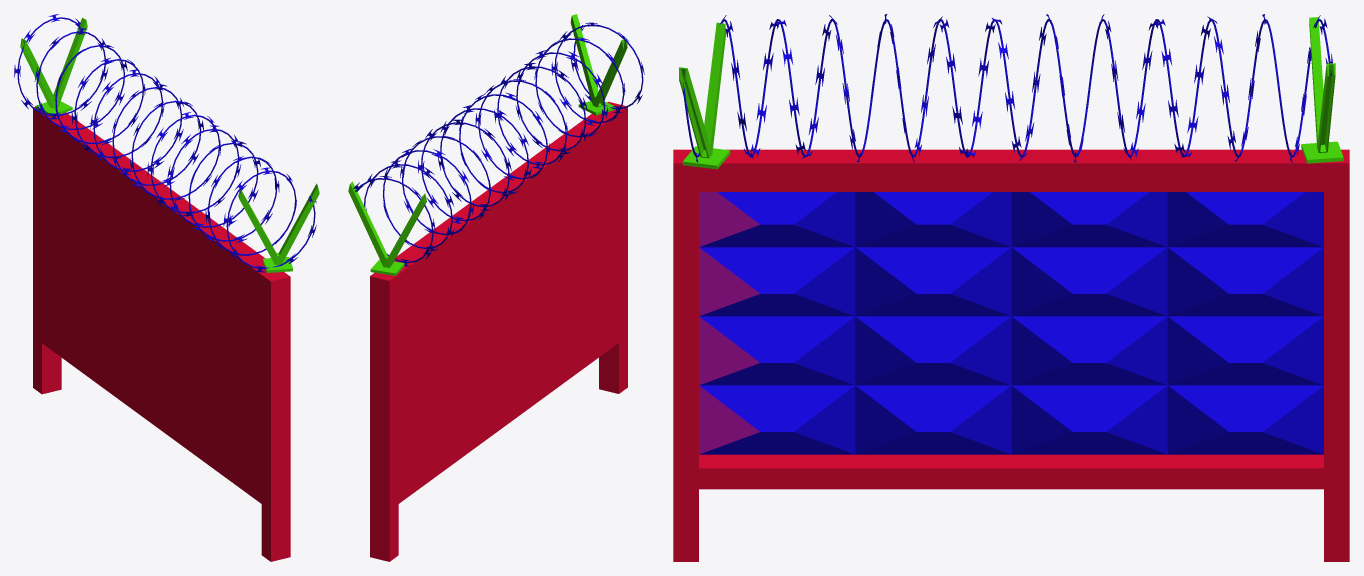
3 views of the same model, side by side, from view 1: azimuth 30°, elevation 25°; view 2: azimuth 150°, elevation 25°; view 3: azimuth 270°, elevation 25° (orthographic). The views are drawn at different scales.
Visible parts, largest first — view 1: Barbed Wire; view 2: Barbed Wire; view 3: Barbed Wire.
Part boxes in pixels (<box>): Barbed Wire: <box>14,14,319,561</box>; Barbed Wire: <box>348,14,644,561</box>; Barbed Wire: <box>673,14,1349,561</box>.
Size of the model in its own units: 81.5 by 346 by 396.
